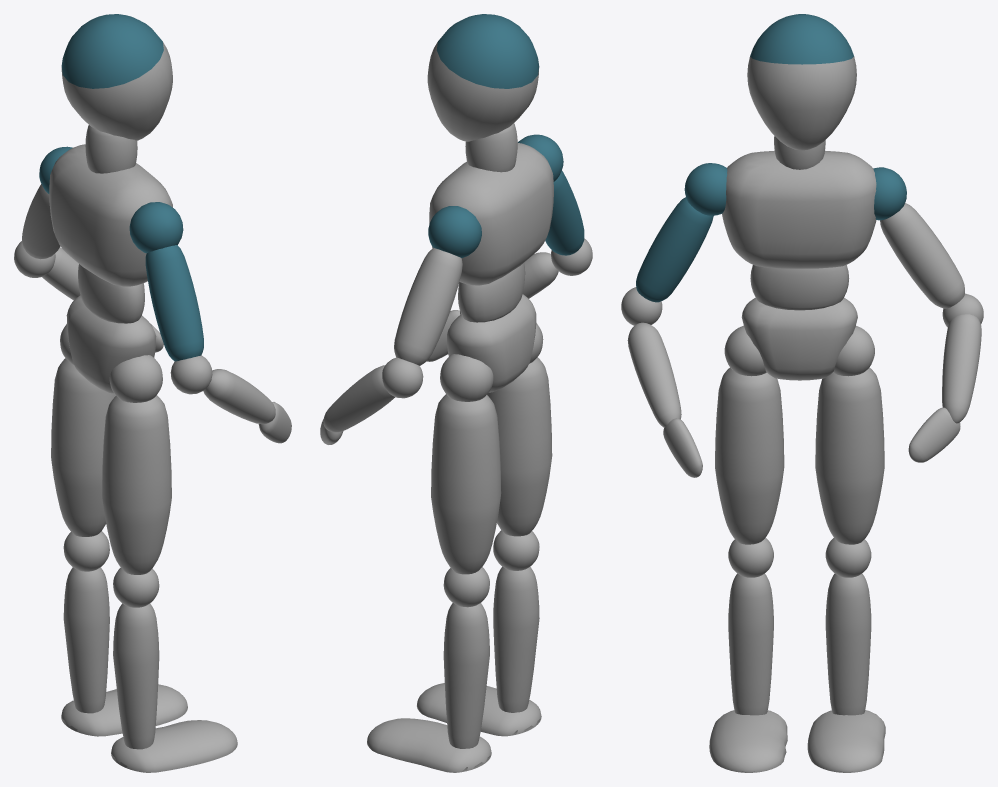
Rendered from bare figure 2019.fbx.
The picture shows the model from 3 angles, left to right: view 1: azimuth 30°, elevation 25°; view 2: azimuth 150°, elevation 25°; view 3: azimuth 270°, elevation 25°; orthographic projection.
Parts seen in each view (by area): view 1: polySurface6, polySurface13, polySurface7, polySurface22, polySurface24, polySurface15, polySurface17, figure___bigger_feet_for_print:polySurface9, pasted__polySurface16, pasted__pasted__polySurface16, polySurface10, figure___bigger_feet_for_print:polySurface19 (+13 smaller); view 2: polySurface6, polySurface22, polySurface7, polySurface13, polySurface15, polySurface24, polySurface27, figure___bigger_feet_for_print:polySurface9, pasted__pasted__polySurface16, figure___bigger_feet_for_print:pasted__pasted__polySurface16, polySurface10, polySurface29 (+13 smaller); view 3: polySurface7, polySurface6, polySurface22, polySurface13, figure___bigger_feet_for_print:polySurface9, polySurface24, polySurface15, polySurface27, polySurface17, polySurface10, pasted__pasted__polySurface16, pasted__polySurface16 (+15 smaller).
Part boxes in pixels (bbox=[...]): polySurface6: bbox=[61, 14, 172, 140]; polySurface13: bbox=[102, 395, 171, 574]; polySurface7: bbox=[49, 144, 172, 286]; polySurface22: bbox=[51, 358, 115, 536]; polySurface24: bbox=[63, 567, 109, 713]; polySurface15: bbox=[113, 603, 159, 749]; polySurface17: bbox=[145, 245, 203, 361]; figure___bigger_feet_for_print:polySurface9: bbox=[66, 295, 156, 393]; pasted__polySurface16: bbox=[111, 720, 237, 772]; pasted__pasted__polySurface16: bbox=[62, 684, 187, 736]; polySurface10: bbox=[78, 264, 144, 323]; figure___bigger_feet_for_print:polySurface19: bbox=[203, 369, 275, 424]; polySurface6: bbox=[427, 14, 539, 141]; polySurface22: bbox=[431, 394, 501, 574]; polySurface7: bbox=[429, 143, 553, 285]; polySurface13: bbox=[487, 357, 552, 536]; polySurface15: bbox=[493, 566, 539, 712]; polySurface24: bbox=[443, 603, 489, 748]; polySurface27: bbox=[394, 248, 462, 365]; figure___bigger_feet_for_print:polySurface9: bbox=[447, 294, 536, 392]; pasted__pasted__polySurface16: bbox=[367, 718, 491, 772]; figure___bigger_feet_for_print:pasted__pasted__polySurface16: bbox=[370, 718, 491, 772]; polySurface10: bbox=[458, 263, 525, 322]; polySurface29: bbox=[323, 365, 394, 432]; polySurface7: bbox=[722, 150, 876, 268]; polySurface6: bbox=[747, 14, 856, 150]; polySurface22: bbox=[815, 367, 884, 544]; polySurface13: bbox=[715, 367, 784, 544]; figure___bigger_feet_for_print:polySurface9: bbox=[741, 298, 857, 380]; polySurface24: bbox=[825, 573, 871, 715]; polySurface15: bbox=[728, 573, 773, 715]; polySurface27: bbox=[880, 203, 964, 308]; polySurface17: bbox=[636, 197, 713, 302]; polySurface10: bbox=[750, 265, 849, 310]; pasted__pasted__polySurface16: bbox=[807, 710, 885, 772]; pasted__polySurface16: bbox=[709, 710, 787, 772].
Size of the model in its own units: 4.92 by 20.1 by 9.28.
